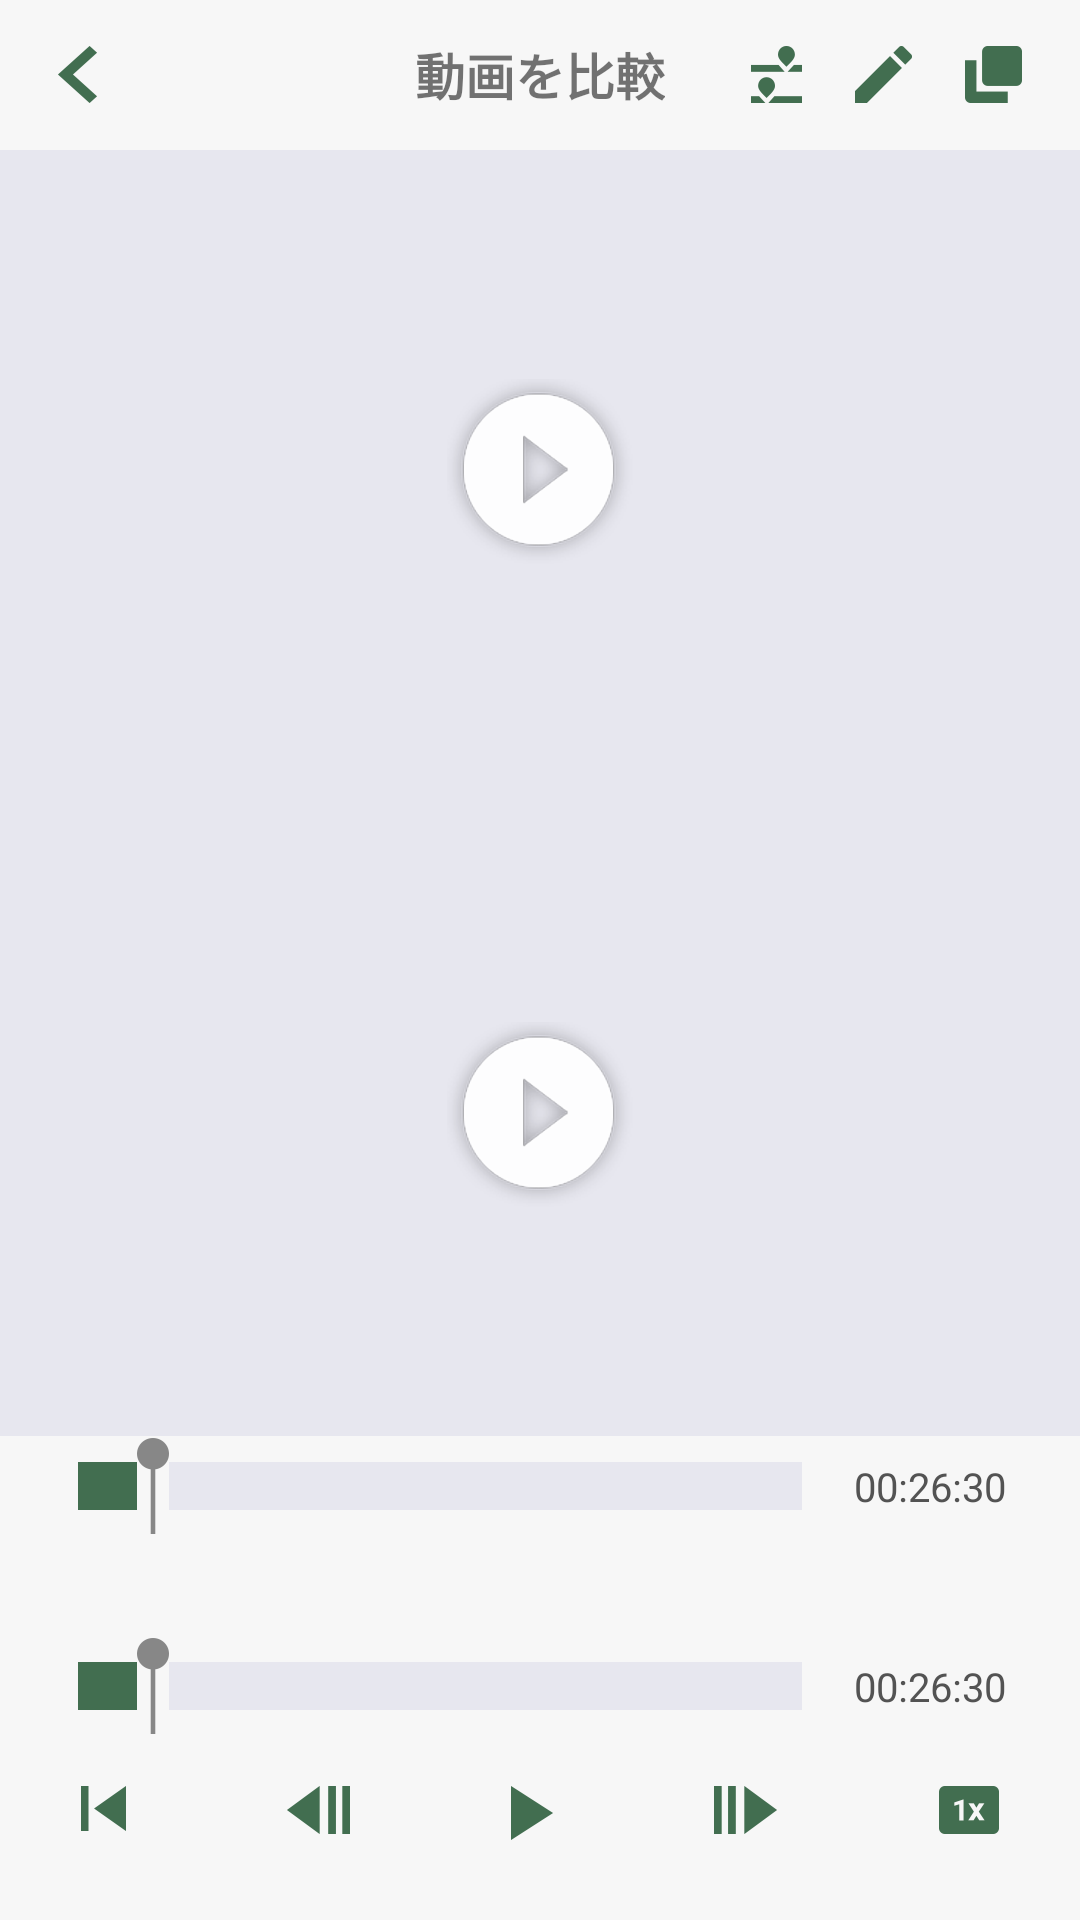

Point at icon controls on the screen. Image size 1080*1920, points as point (x, y).
back gr: point (77, 74)
framebk gr: point (318, 1810)
framego gr: point (745, 1810)
ichi gr: point (776, 74)
pen gr: point (883, 74)
play: point (538, 469), point (538, 1112)
play gr: point (532, 1813)
skip gr: point (103, 1808)
